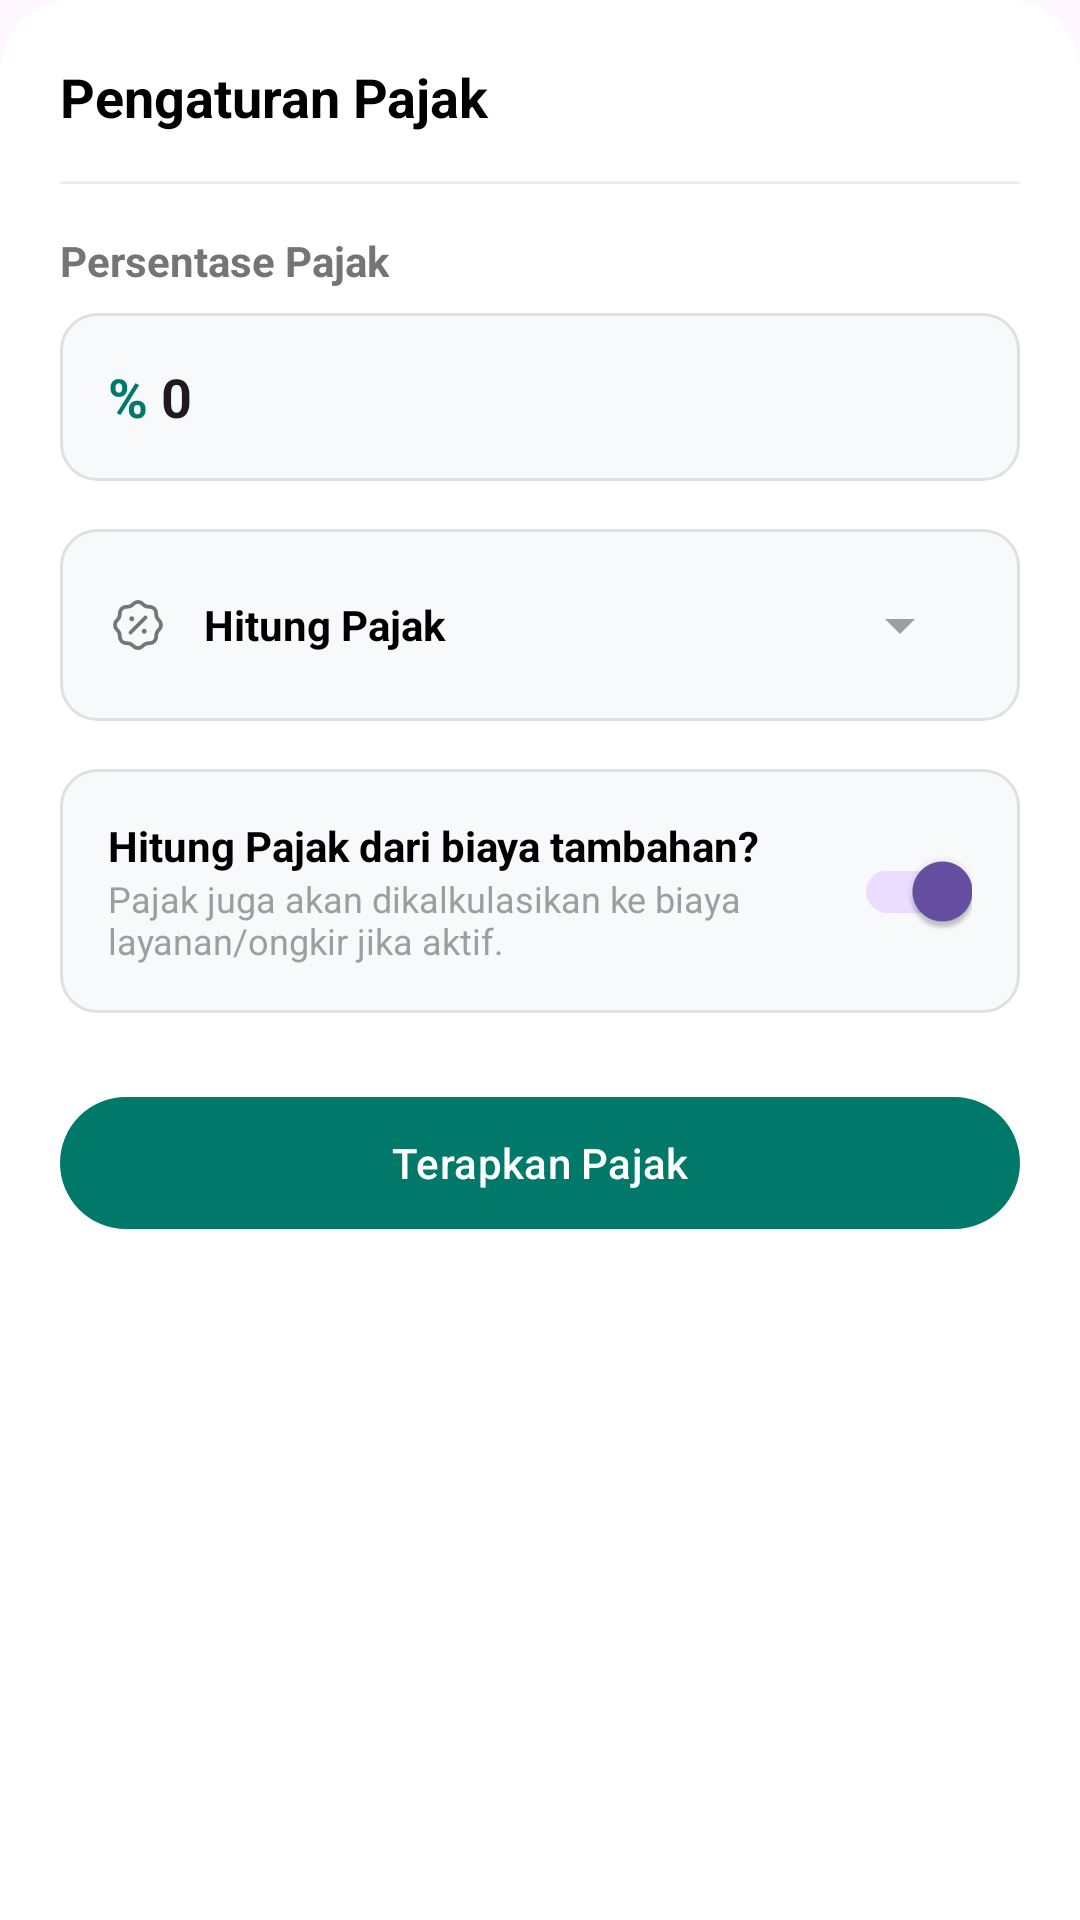

Named icons in this screenshot (1080x1920) and their centers, (x,y):
sale: (138,625)
